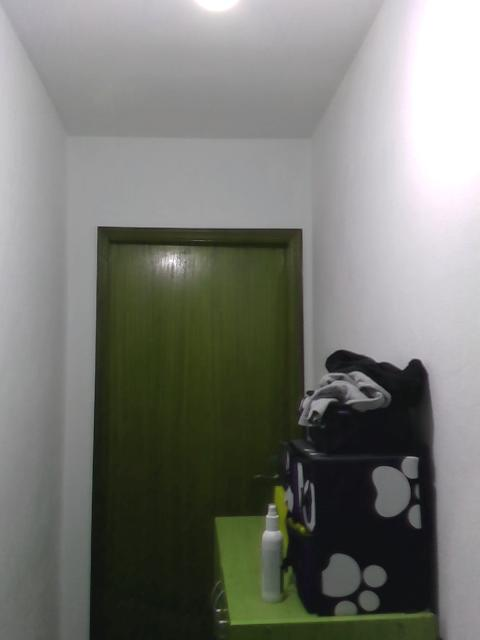closed_door: (87, 224, 301, 639)
